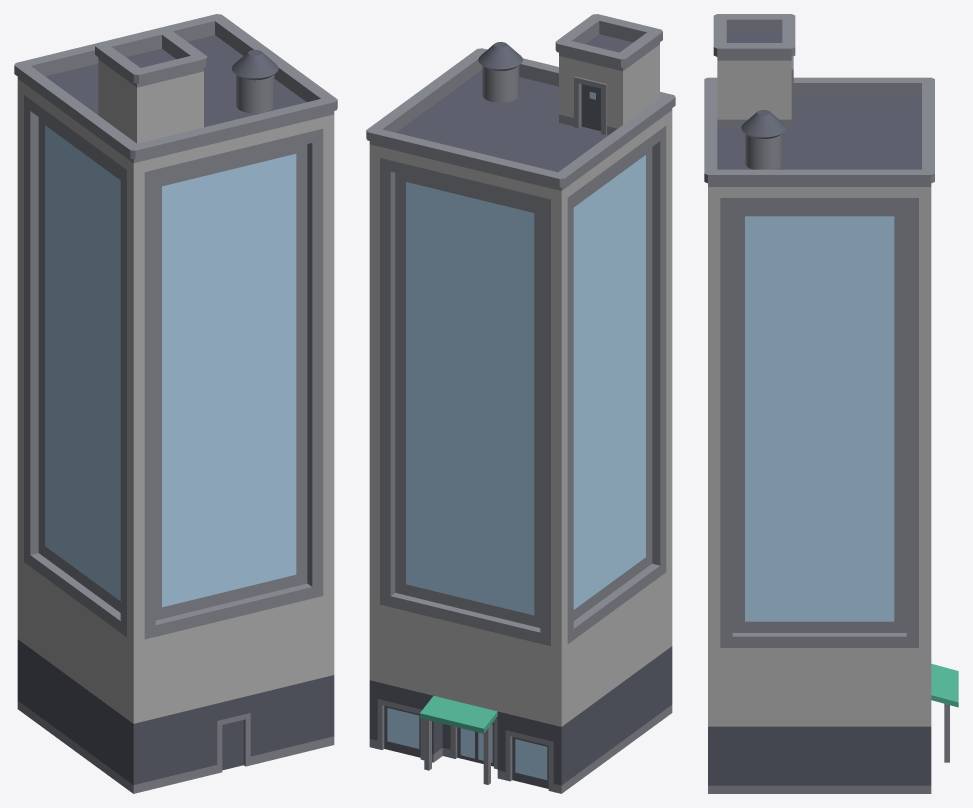
Rendered from skyscraperC.glb.
3 renders of one model, left to right at view 1: azimuth 30°, elevation 25°; view 2: azimuth 150°, elevation 25°; view 3: azimuth 270°, elevation 25°, orthographic. The views are drawn at different scales.
Visible parts, largest first — view 1: skyscraperC; view 2: skyscraperC; view 3: skyscraperC.
Boxes of the visible parts, <box> form: skyscraperC: <box>14,14,337,793</box>; skyscraperC: <box>366,14,675,793</box>; skyscraperC: <box>704,14,958,793</box>.
Size of the model in its own units: 1.24 by 4.08 by 1.37.
